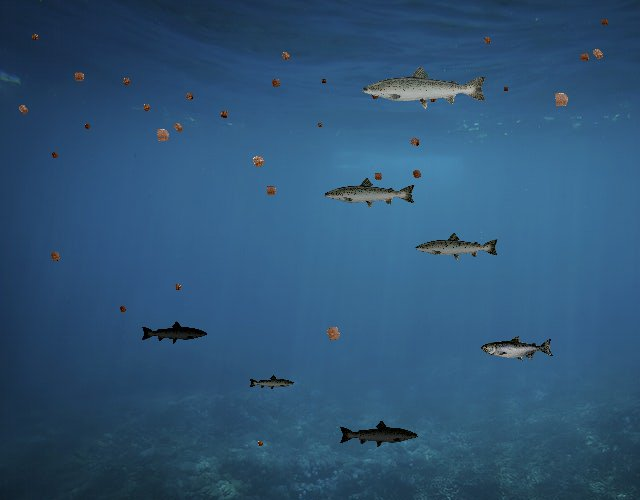Fish: (360, 64, 489, 110), (323, 176, 417, 210), (414, 231, 500, 262), (338, 419, 419, 448), (481, 336, 554, 362), (141, 320, 209, 345), (249, 374, 296, 391)
Pellet: (246, 149, 271, 174), (170, 280, 185, 295), (116, 302, 130, 316), (28, 30, 42, 44), (254, 437, 266, 449)
